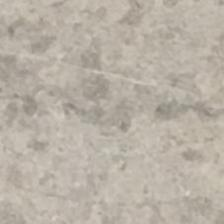Non_Crack: (26, 31, 211, 206)
